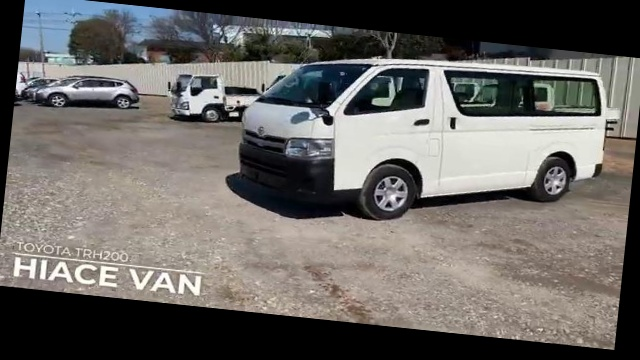van: (233, 33, 618, 228)
